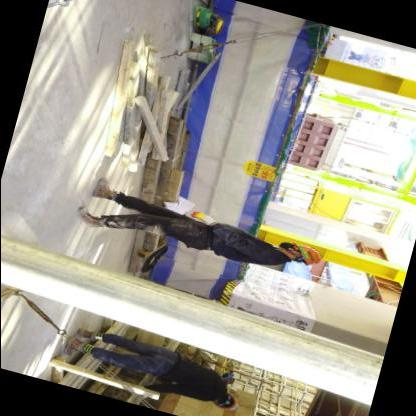Helmet: (293, 234, 327, 269)
safety-shoe: (82, 169, 126, 207), (64, 201, 104, 233)
